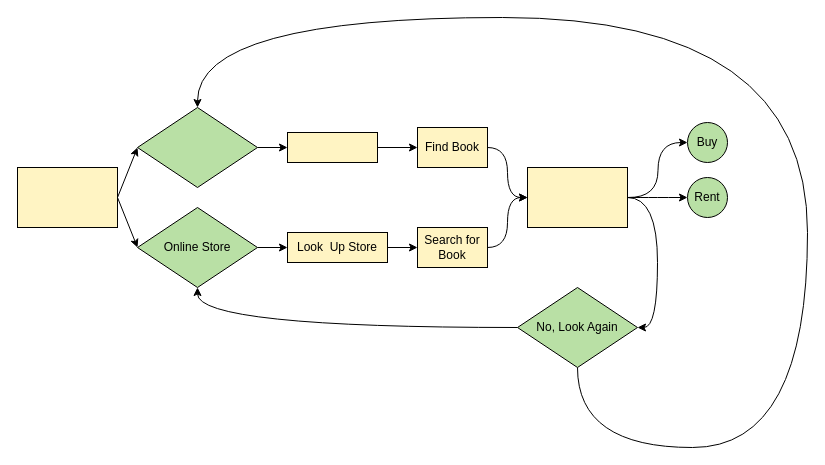
This 825x465 diagram has some shape labels left out. Here are the shapes that lost their labels. From the top down, the centre of each, then its label:
At point (197, 147): "In Person Store".
At point (332, 147): "Drive to Store".
At point (67, 197): "Customer Desires a Book".
At point (577, 197): "Correct Edition".
